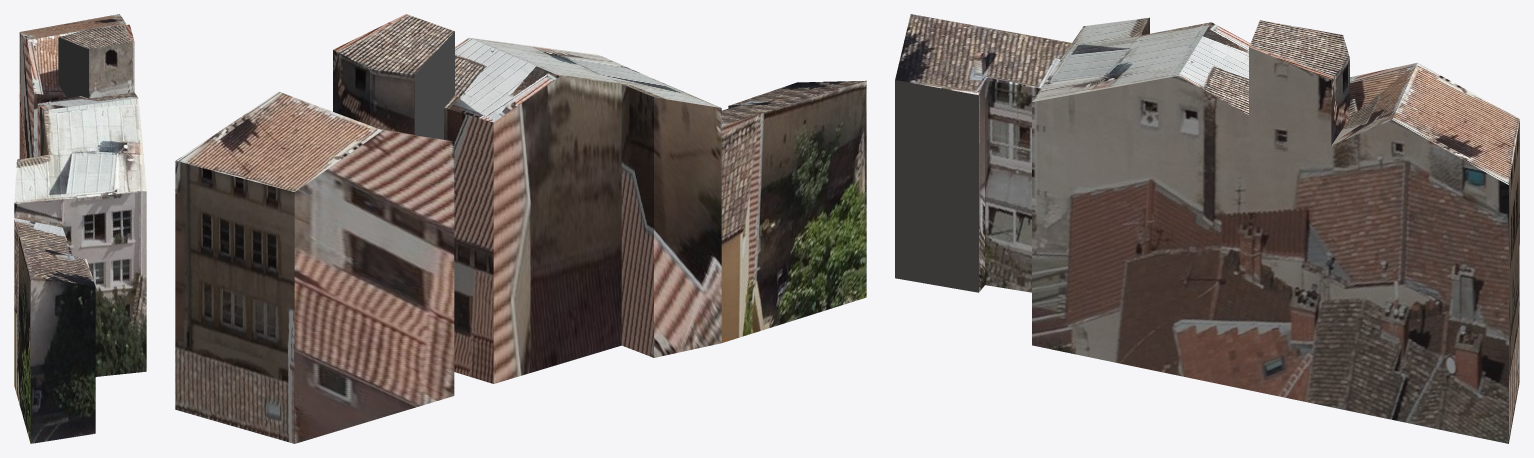
The picture shows the model from 3 angles, left to right: view 1: azimuth 30°, elevation 25°; view 2: azimuth 150°, elevation 25°; view 3: azimuth 270°, elevation 25°; orthographic projection. The views are drawn at different scales.
Visible parts, largest first — view 1: Z_UP; view 2: Z_UP; view 3: Z_UP.
Boxes of the visible parts, <box> form: Z_UP: <box>14,14,146,443</box>; Z_UP: <box>175,14,866,443</box>; Z_UP: <box>895,14,1519,443</box>.
Bounding box in the file's own units: 22.05 × 17.24 × 28.44.
Materials: 2 (1 with a texture image).
